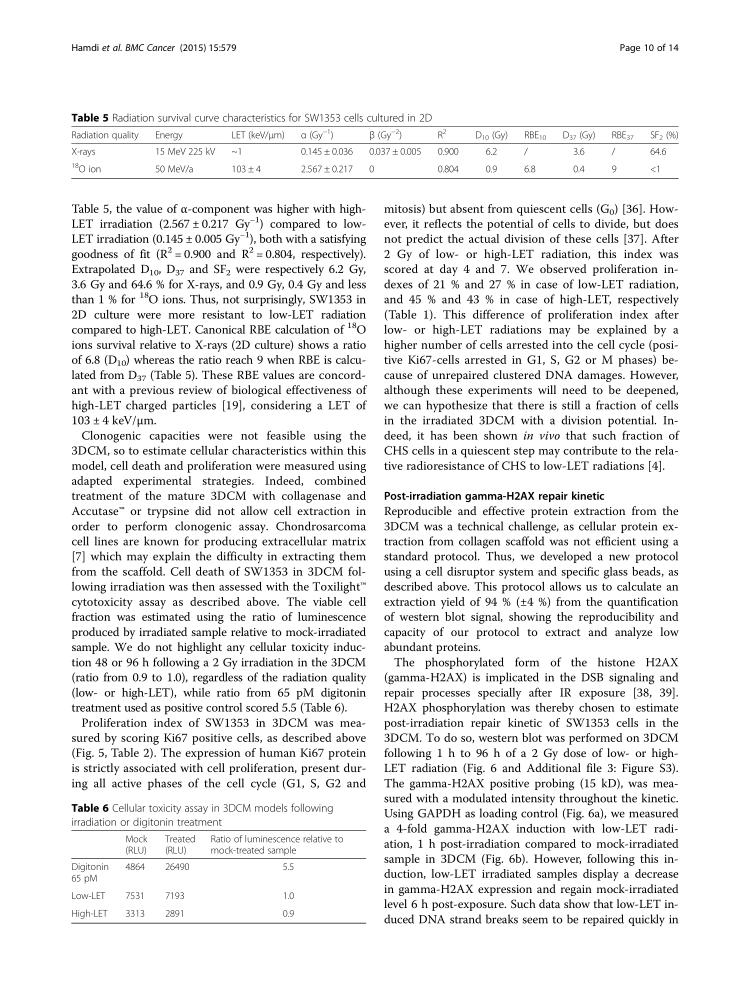table: (71, 127, 678, 174), (71, 833, 343, 919)
